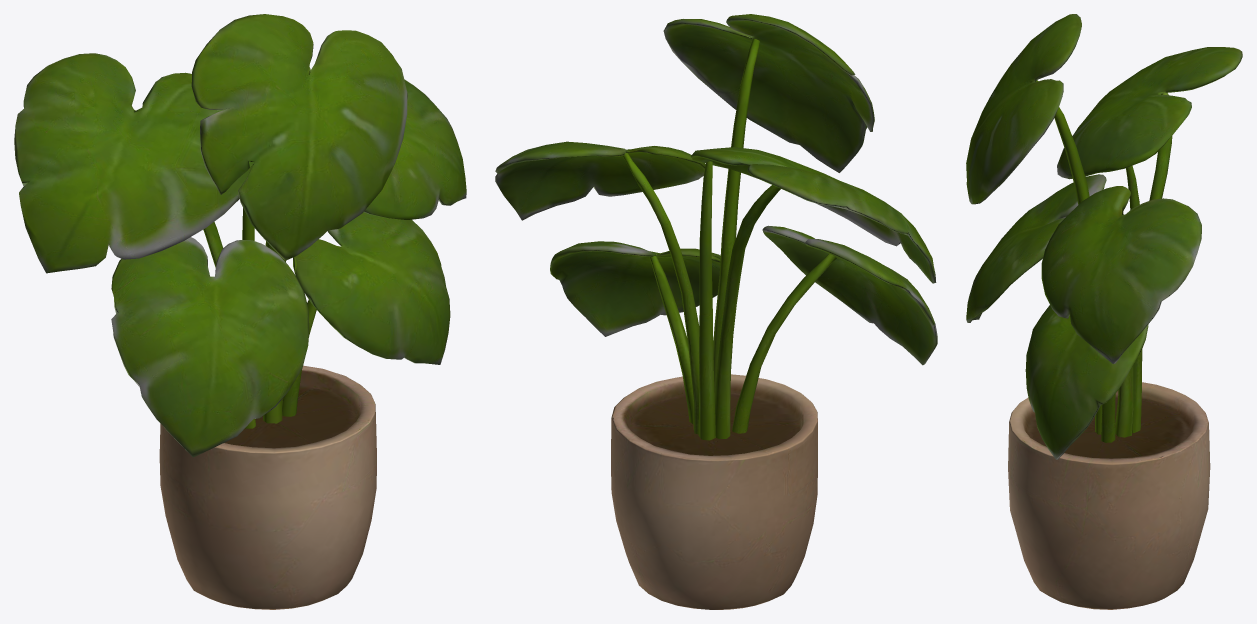
File: legacy.plant.glb
3 renders of one model, left to right at view 1: azimuth 30°, elevation 25°; view 2: azimuth 150°, elevation 25°; view 3: azimuth 270°, elevation 25°, orthographic. The views are drawn at different scales.
Visible parts, largest first — view 1: geometry_0; view 2: geometry_0; view 3: geometry_0.
Boxes of the visible parts, box(x1,y1,x2,y2) form: geometry_0: box(14, 14, 466, 609); geometry_0: box(495, 14, 937, 609); geometry_0: box(966, 14, 1242, 609).
Bounding box in the file's own units: 0.7954 × 1 × 0.4661.
1 material, 1 textured.
